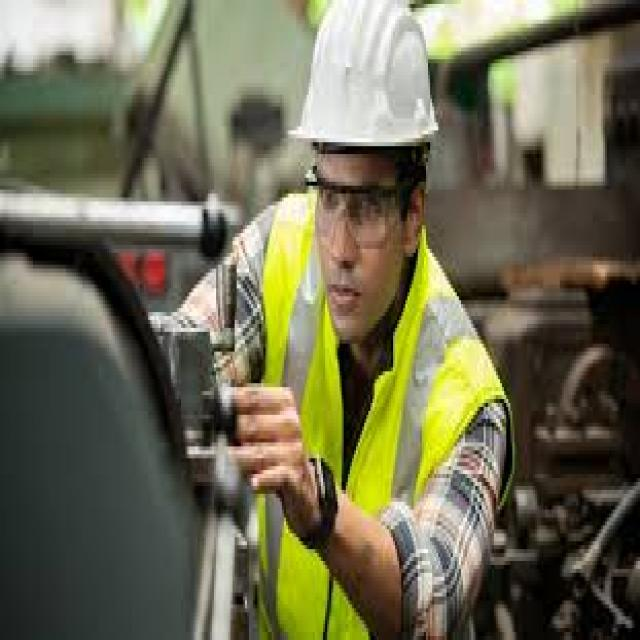Reflective-Jacket: (245, 237, 523, 632)
Safety-Helmet: (288, 4, 443, 162)
